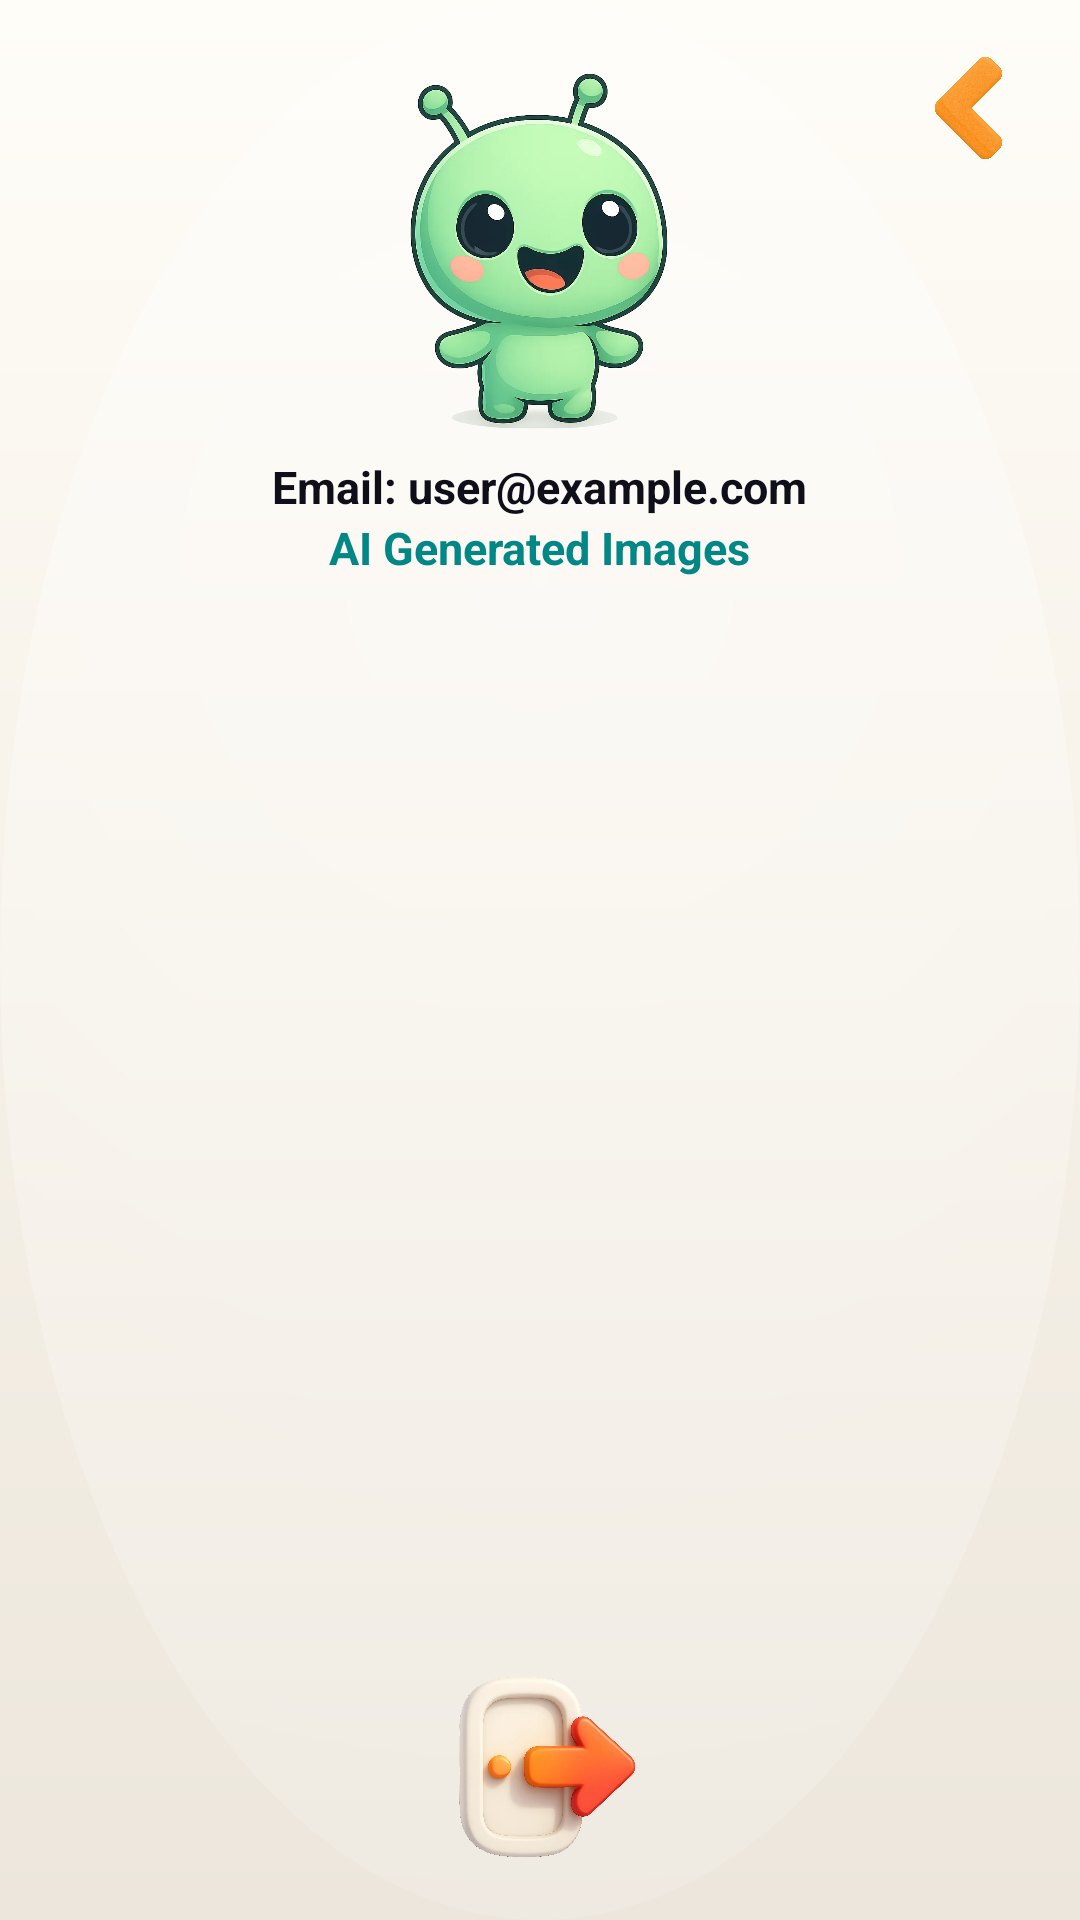

Icons on this 1080*1920 Android screen, each with its box as (x1, y1, x2, y2):
Back arrow: (935, 57, 1002, 159)
